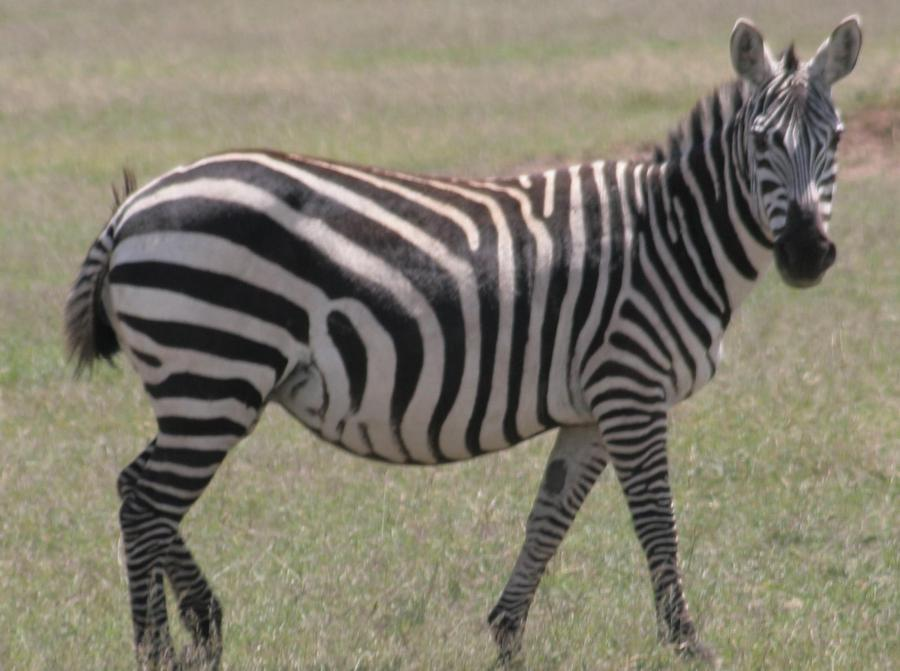zebra_plains: (109, 123, 725, 459)
